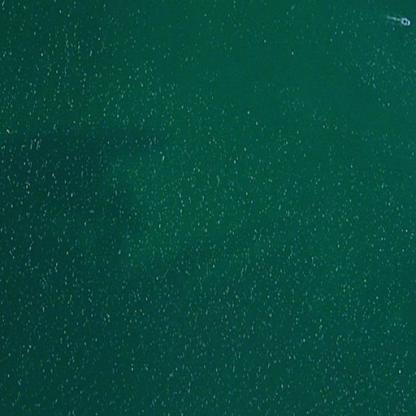ship: (398, 15, 411, 28)
